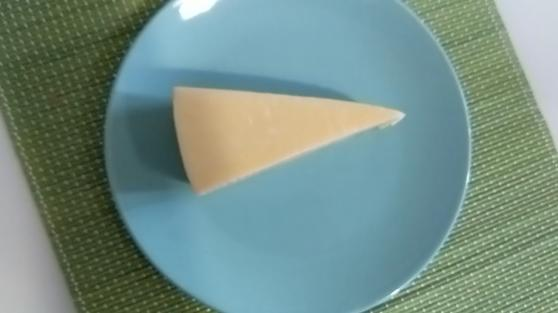cheese: (171, 83, 408, 198)
